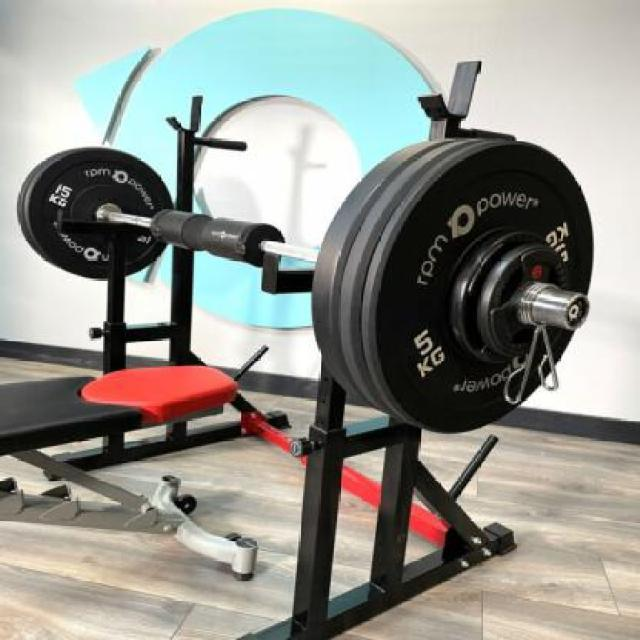barbell: (308, 130, 609, 438)
